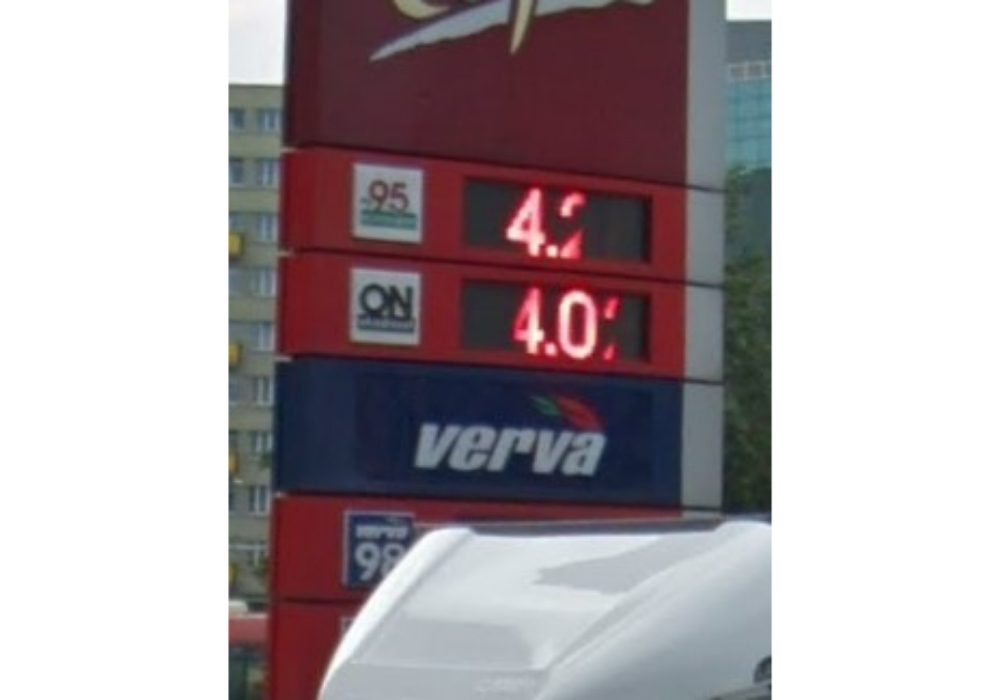ON: (342, 264, 424, 349)
PB95: (348, 160, 424, 245)
PB98: (341, 507, 422, 595)
